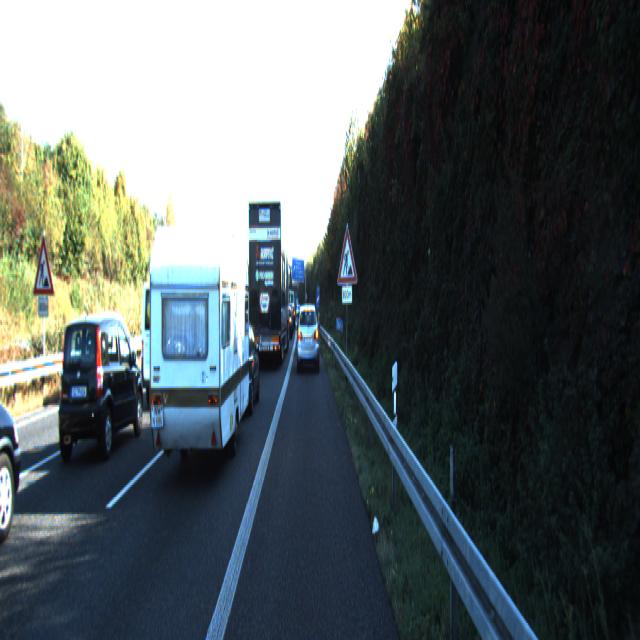Car: (56, 312, 146, 462), (0, 307, 29, 544), (82, 308, 140, 398), (214, 316, 261, 416), (296, 301, 319, 371)
Misc: (149, 210, 250, 489)
Truck: (248, 197, 290, 367)
Van: (140, 278, 207, 408)
